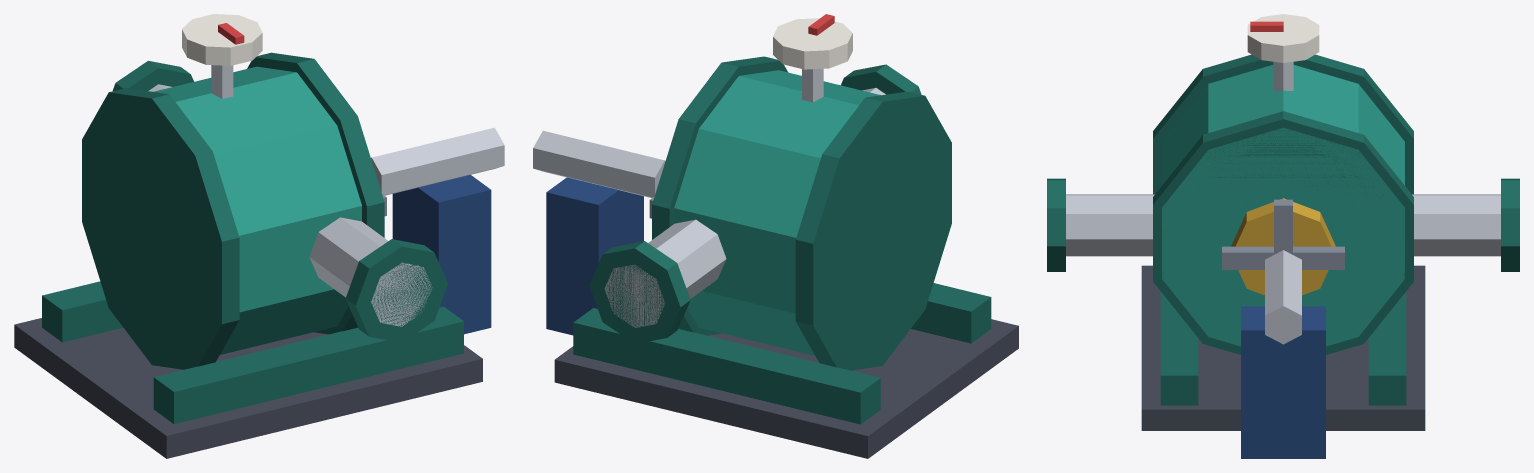
Rendered from pump.glb.
3 renders of one model, left to right at view 1: azimuth 30°, elevation 25°; view 2: azimuth 150°, elevation 25°; view 3: azimuth 270°, elevation 25°, orthographic. The views are drawn at different scales.
Visible parts, largest first — view 1: pump, spin-x; view 2: pump, spin-x; view 3: pump, spin-x.
Boxes of the visible parts, x1,y1,x2,y2 form: pump: (14,14,491,458); spin-x: (371,127,504,216); pump: (546,14,1018,458); spin-x: (533,130,665,218); pump: (1047,14,1519,458); spin-x: (1222,198,1344,344).
Size of the model in its own units: 0.92 by 0.755 by 1.
Materials: 2 (2 with a texture image).
